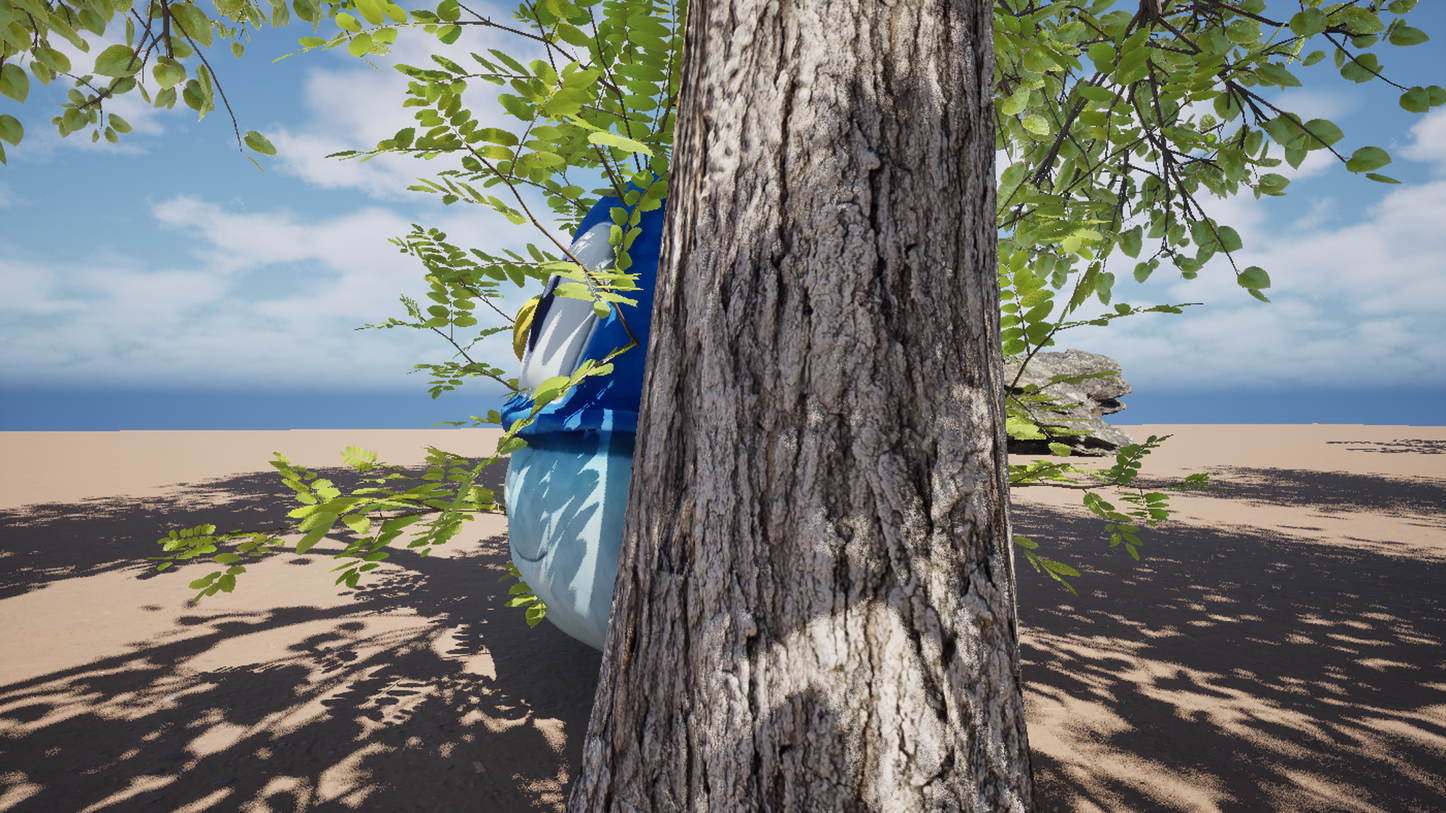Piplup: (381, 0, 1158, 813)
